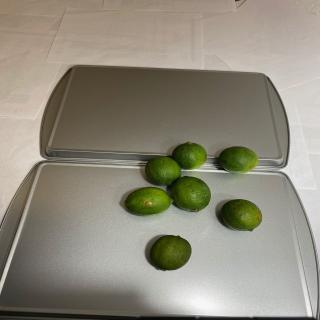Lemon: (149, 235, 192, 271), (124, 187, 174, 216), (220, 198, 262, 232), (172, 176, 211, 212), (218, 146, 259, 174), (144, 156, 182, 186), (172, 141, 207, 170)
